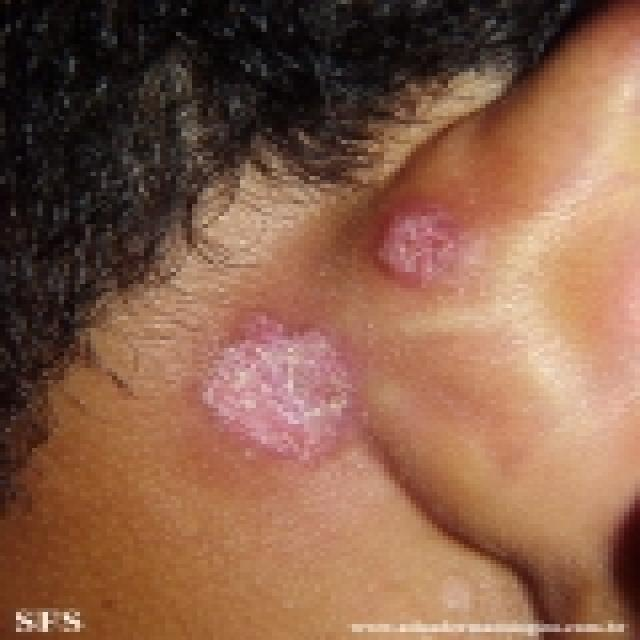lupus: (194, 310, 365, 481), (365, 191, 474, 295)
